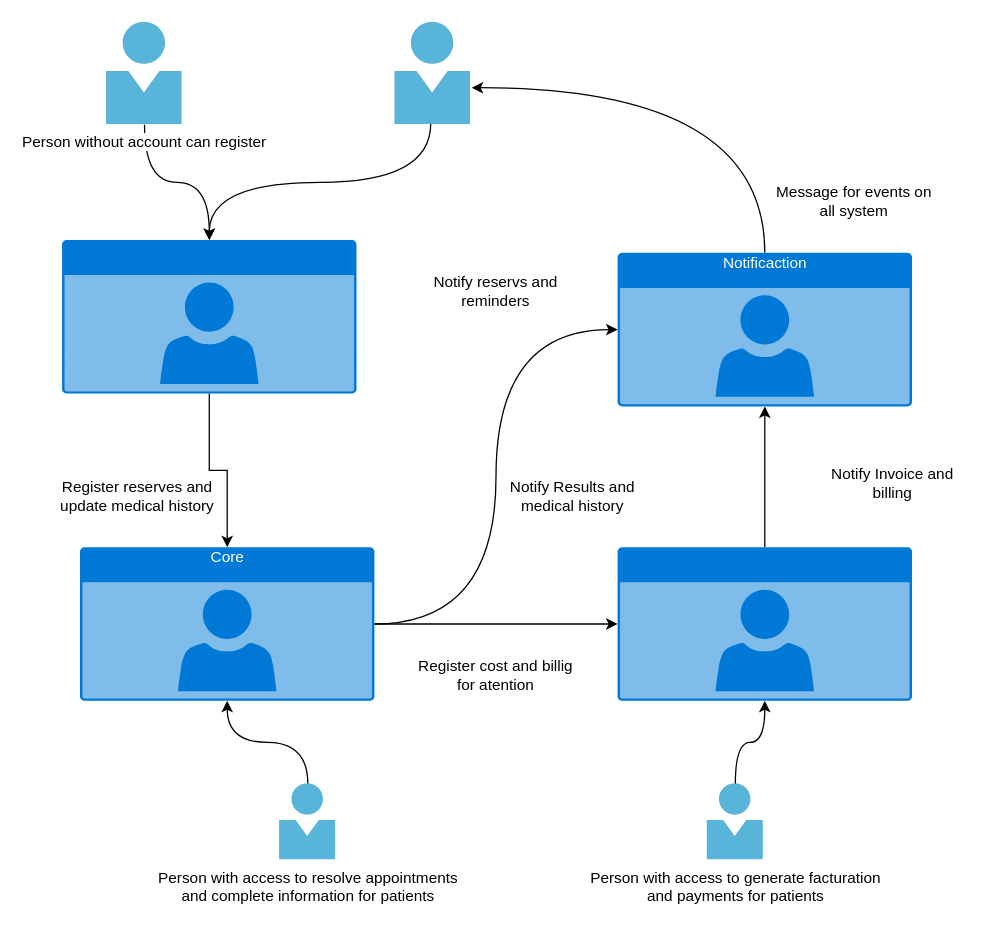
Some shapes in this 998 by 928 pixel diagram are drawn without their labels. Each missing label, with the box of its shape:
Billing: (617, 547, 911, 700)
Person with account to consult services and reserve dates: (394, 22, 470, 124)
Security: (61, 239, 356, 393)
